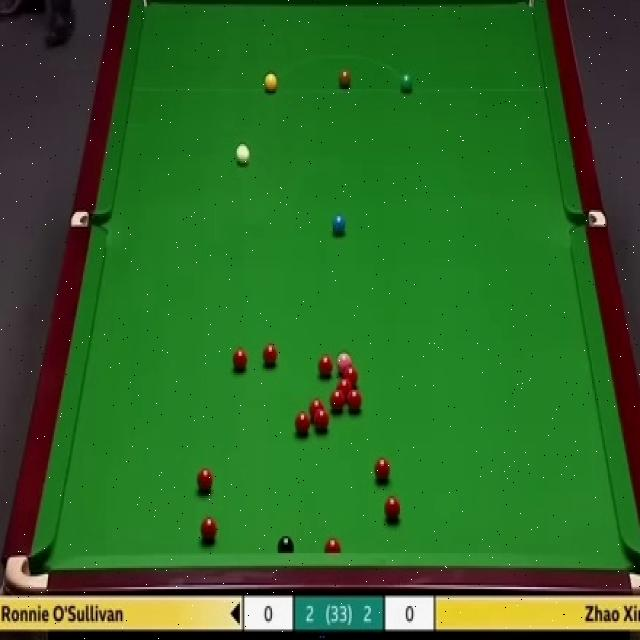black-ball: (278, 536, 296, 553)
blue-ball: (332, 215, 346, 233)
brown-ball: (339, 70, 352, 88)
green-ball: (399, 70, 414, 94)
pink-ball: (337, 352, 352, 374)
red-ball: (373, 455, 391, 482), (200, 518, 218, 543), (384, 496, 401, 522), (262, 340, 279, 365), (201, 467, 218, 492), (315, 356, 334, 378), (294, 410, 310, 436), (341, 365, 358, 389), (232, 350, 249, 371), (347, 388, 362, 409), (315, 408, 329, 429), (310, 399, 324, 419), (330, 390, 344, 410), (323, 538, 343, 552)
white-ball: (236, 143, 252, 167)
yellow-ball: (264, 72, 278, 94)
